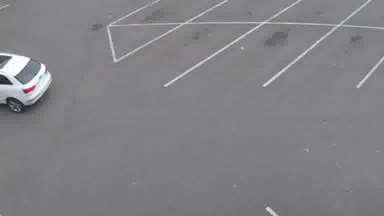car: (0, 52, 52, 112)
